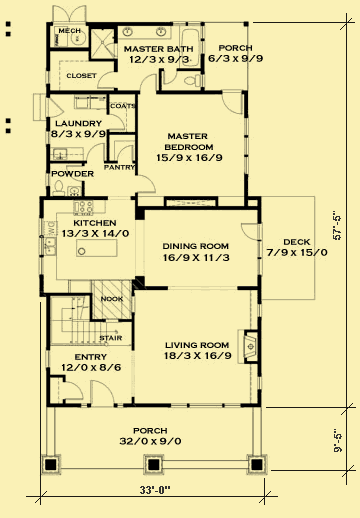door: (49, 1, 94, 28), (87, 378, 117, 412), (221, 87, 246, 118), (134, 69, 160, 97), (60, 378, 83, 407), (239, 219, 264, 245), (45, 92, 67, 121), (93, 67, 119, 91), (85, 141, 108, 165), (133, 171, 158, 192), (158, 65, 180, 87)
kitchen bar: (70, 235, 120, 260)
large sink: (51, 176, 67, 200)
small sink: (145, 22, 174, 42), (182, 73, 204, 90), (116, 24, 140, 38), (67, 182, 84, 200)
stairs: (47, 293, 114, 345)
tub: (180, 22, 204, 67)
windows: (164, 400, 244, 414), (240, 116, 253, 179), (37, 214, 44, 277), (44, 343, 53, 369), (255, 296, 264, 322)
